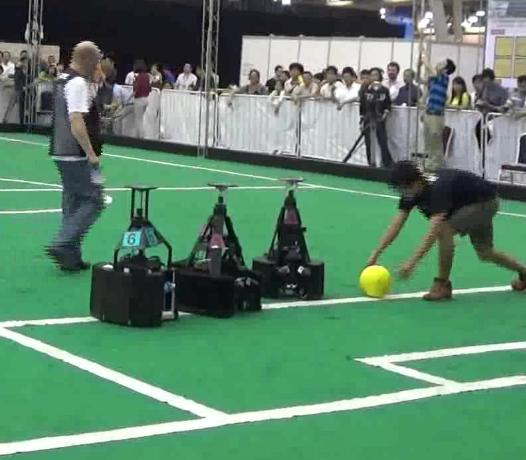robot: (89, 182, 180, 328), (172, 180, 263, 320), (252, 174, 327, 303)
